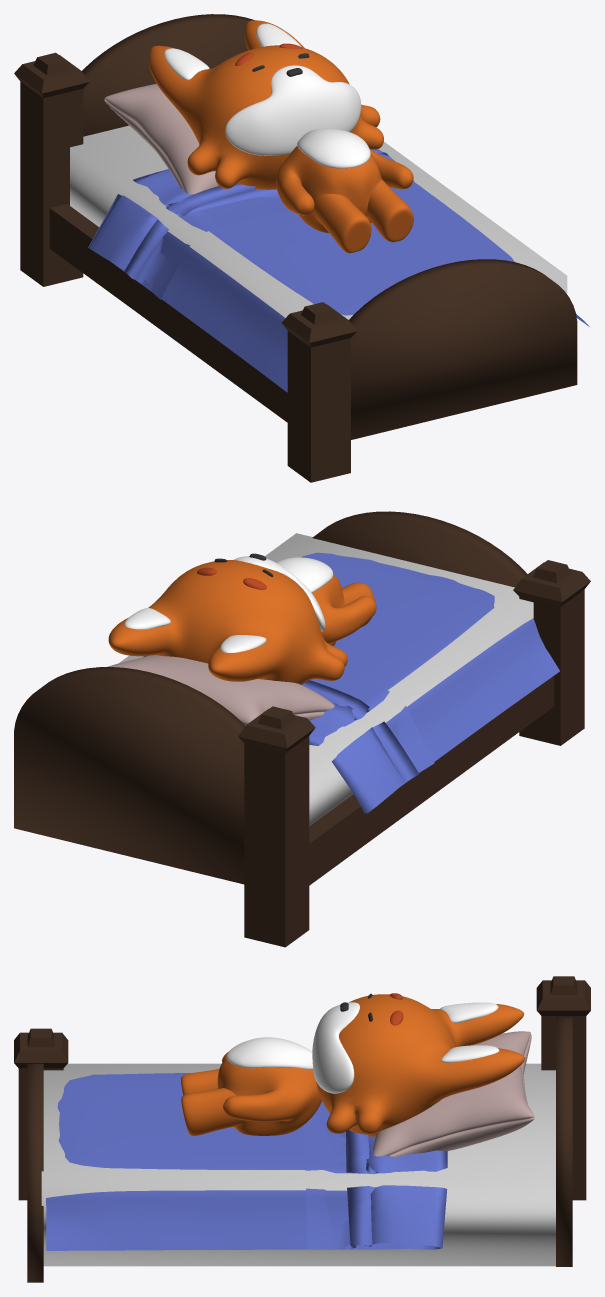
The model's file is bed.glb.
The picture shows the model from 3 angles, top to bottom: view 1: azimuth 30°, elevation 25°; view 2: azimuth 150°, elevation 25°; view 3: azimuth 270°, elevation 25°; orthographic projection. The views are drawn at different scales.
Visible parts, largest first — view 1: Plane, Circle, Tete.001, Cube, Cube.003, Tete.002, Cube.001, Cube.002, Circle.001, Plane.001; view 2: Circle.001, Plane, Tete.001, Cube.003, Cube, Cube.002, Cube.001, Circle, Plane.001, Tete.002; view 3: Plane, Cube, Tete.001, Plane.001, Tete.002, Cube.003, Circle.001, Circle, Cube.001.
Boxes of the visible parts, left/top/right/bottom form: Plane: left=88, top=149, right=589, bottom=392; Circle: left=349, top=259, right=577, bottom=439; Tete.001: left=148, top=20, right=413, bottom=253; Cube: left=70, top=125, right=567, bottom=319; Cube.003: left=14, top=52, right=89, bottom=286; Tete.002: left=164, top=23, right=370, bottom=168; Cube.001: left=281, top=302, right=356, bottom=482; Cube.002: left=49, top=204, right=287, bottom=422; Circle.001: left=82, top=14, right=254, bottom=136; Plane.001: left=104, top=83, right=218, bottom=194; Circle.001: left=14, top=667, right=245, bottom=884; Plane: left=143, top=552, right=559, bottom=813; Tete.001: left=108, top=560, right=376, bottom=684; Cube.003: left=238, top=706, right=315, bottom=947; Cube: left=118, top=533, right=533, bottom=825; Cube.002: left=309, top=676, right=554, bottom=885; Cube.001: left=513, top=560, right=590, bottom=745; Circle: left=312, top=511, right=527, bottom=587; Plane.001: left=107, top=655, right=334, bottom=725; Tete.002: left=124, top=556, right=333, bottom=652; Plane: left=46, top=1073, right=447, bottom=1250; Cube: left=41, top=1063, right=555, bottom=1266; Tete.001: left=181, top=994, right=525, bottom=1136; Plane.001: left=373, top=1031, right=534, bottom=1156; Tete.002: left=226, top=1002, right=499, bottom=1093; Cube.003: left=536, top=976, right=590, bottom=1200; Circle.001: left=556, top=1017, right=572, bottom=1266; Circle: left=27, top=1063, right=43, bottom=1282; Cube.001: left=14, top=1028, right=68, bottom=1200.
Size of the model in its own units: 5.31 by 4.08 by 8.54.
